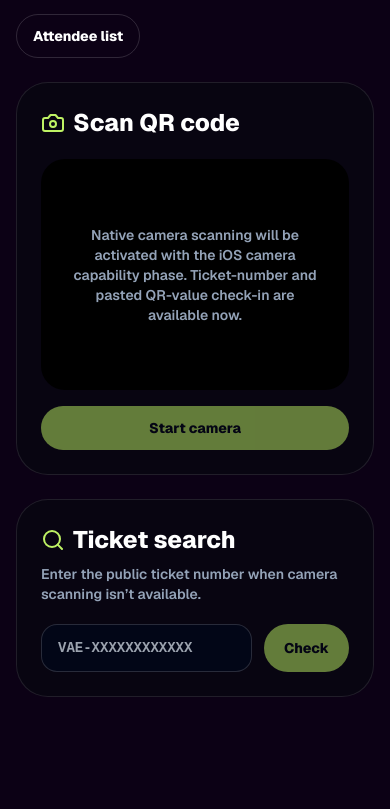
Test: mobile event operations UI › checks in by ticket number and leaves native camera activation deferred
(page scrolled)
Expected: the button "Start camera" is disabled, [41,406,349,450]
Type "VAE-123" into the field named "Ticket number" at (146, 648), box [41,624,252,672]
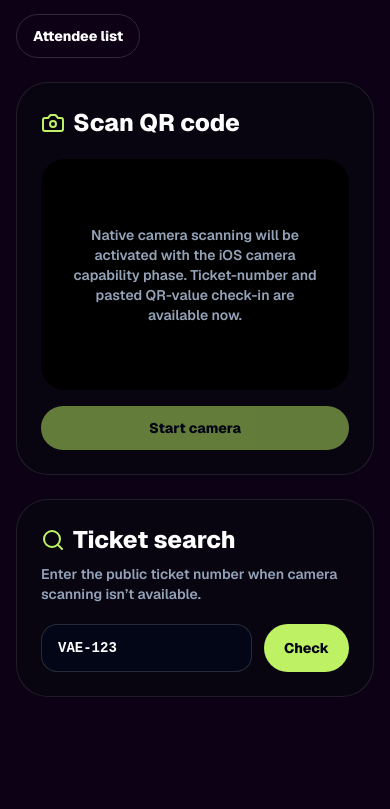
Click the button "Check" at (307, 648), box [264,624,349,672]
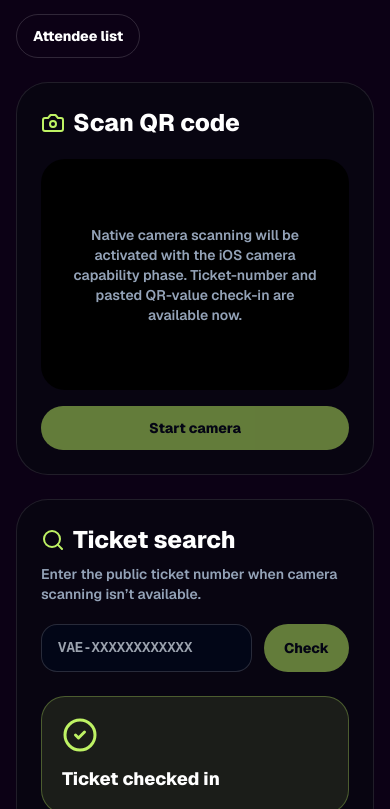
Expected: the text "Ticket checked in" is shown, [62,767,220,790]
